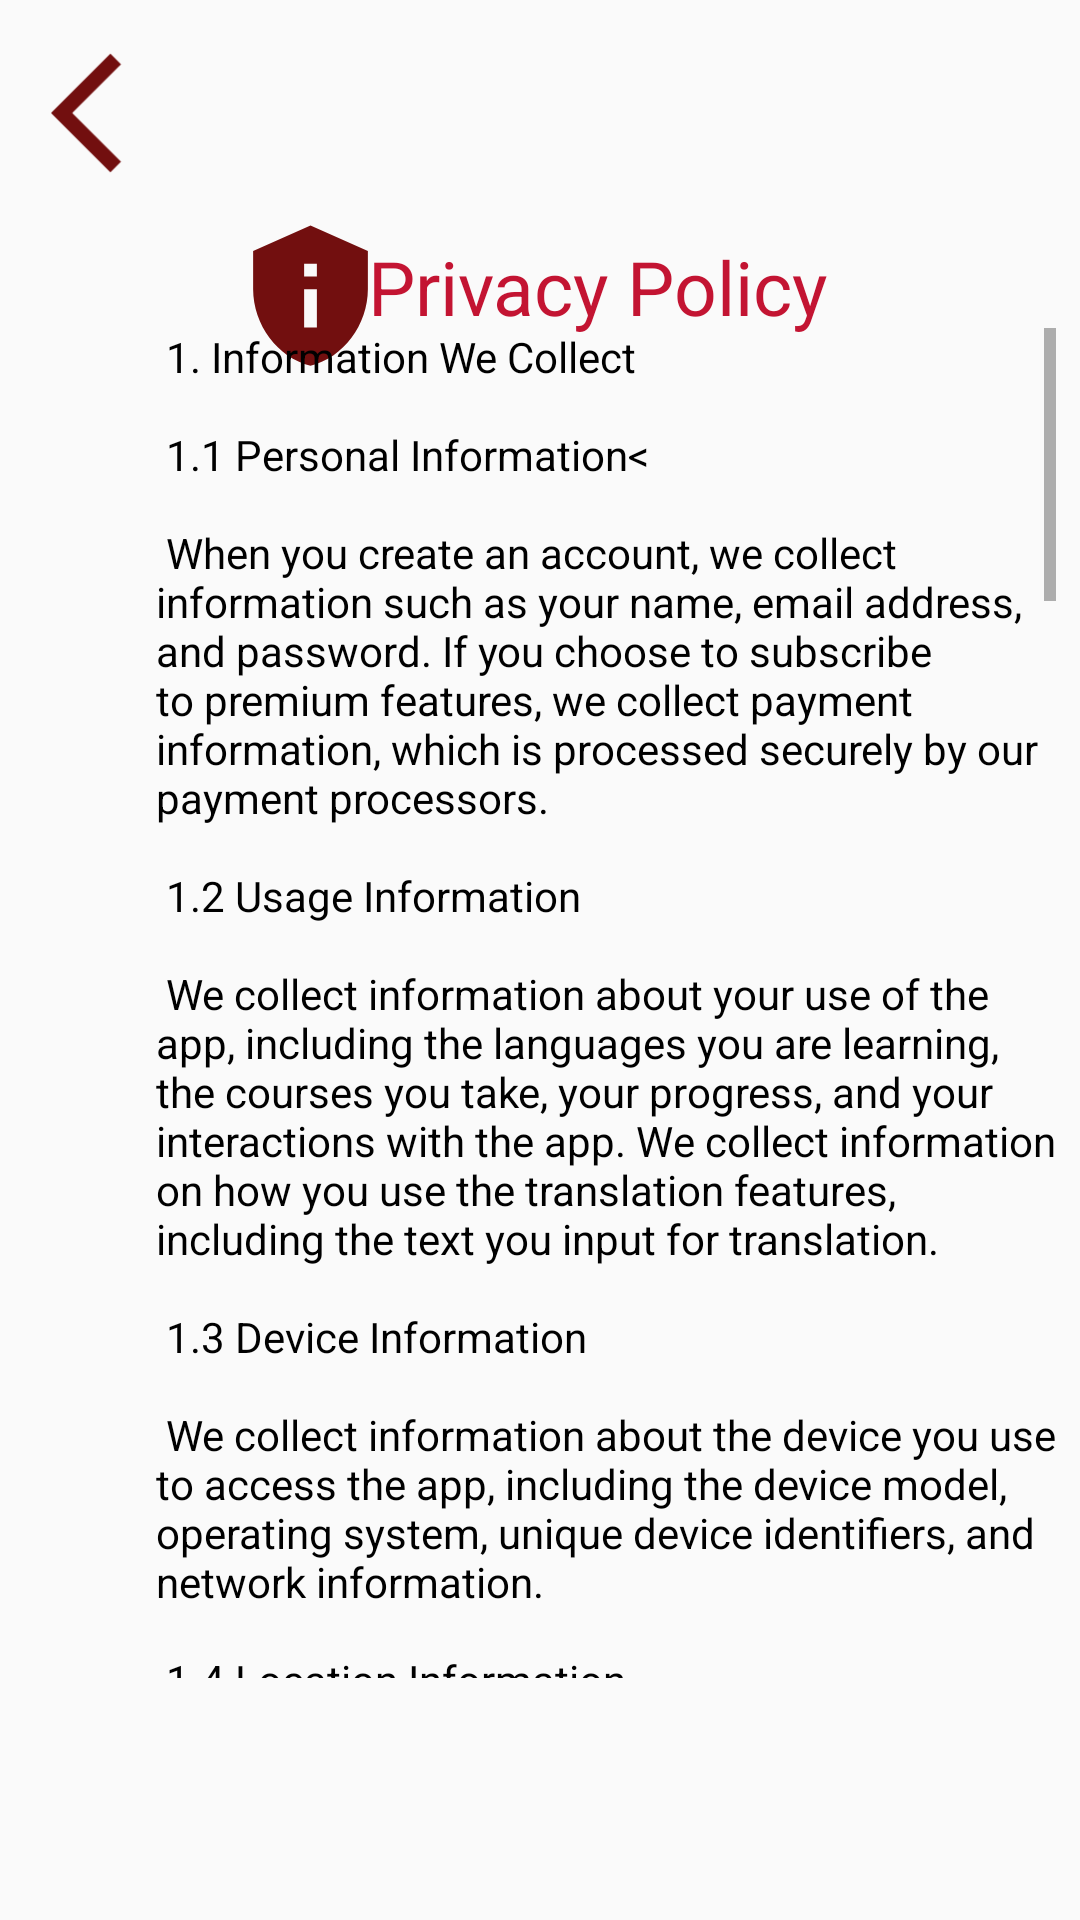

Where to tap for icons on this 1080 × 1920 app screen, as point (x, y):
arro: point (86, 113)
